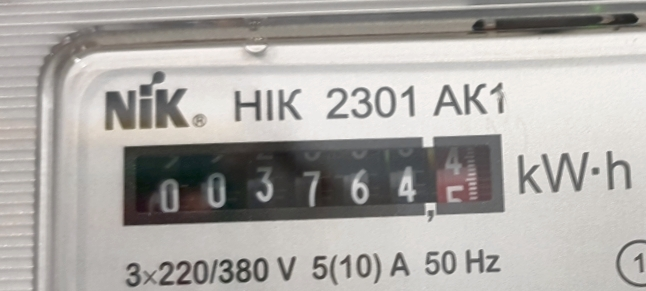0: (203, 171, 227, 212), (156, 177, 181, 216)
3: (251, 165, 275, 206)
4: (396, 166, 417, 206), (441, 146, 464, 178)
5: (442, 184, 465, 207)
6: (348, 168, 370, 208)
7: (299, 168, 324, 211)
screen: (105, 118, 519, 243)
